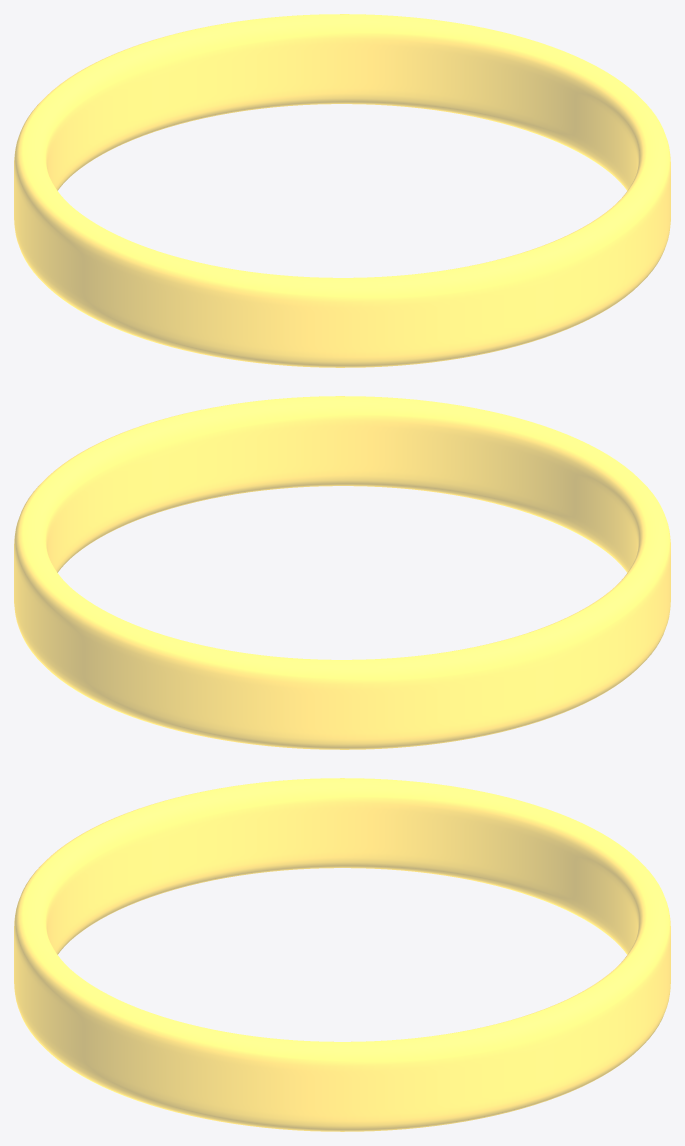
The model's file is ring1.gltf.
The picture shows the model from 3 angles, top to bottom: view 1: azimuth 30°, elevation 25°; view 2: azimuth 150°, elevation 25°; view 3: azimuth 270°, elevation 25°; orthographic projection.
Parts seen in each view (by area): view 1: 圆环; view 2: 圆环; view 3: 圆环.
Part boxes in pixels (x1,y1,x2,y2): 圆环: (14, 14, 670, 367); 圆环: (14, 396, 670, 749); 圆环: (14, 778, 670, 1131).
Bounding box in the file's own units: 1.99 × 0.2876 × 1.99.
